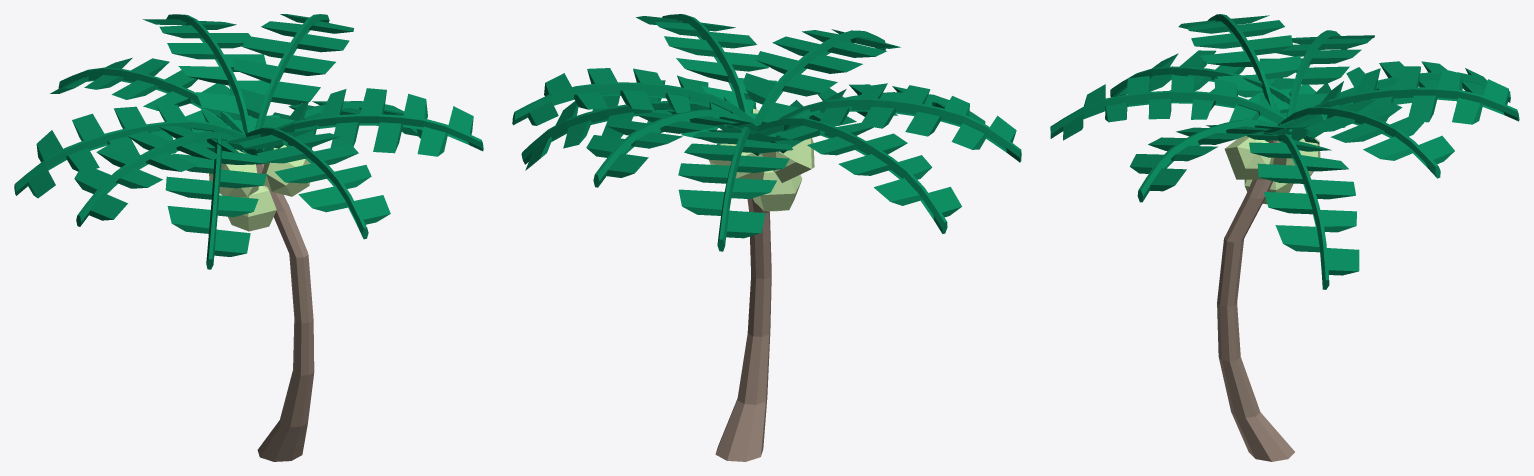
Rendered from coco_tree_01.fbx.
The picture shows the model from 3 angles, left to right: view 1: azimuth 30°, elevation 25°; view 2: azimuth 150°, elevation 25°; view 3: azimuth 270°, elevation 25°; orthographic projection. The views are drawn at different scales.
Visible parts, largest first — view 1: coco_tree_1; view 2: coco_tree_1; view 3: coco_tree_1.
Part boxes in pixels (left/top/right/bottom): coco_tree_1: left=14, top=14, right=483, bottom=461; coco_tree_1: left=512, top=14, right=1021, bottom=461; coco_tree_1: left=1050, top=14, right=1519, bottom=461.
Bounding box in the file's own units: 3384 × 2886 × 3336.
